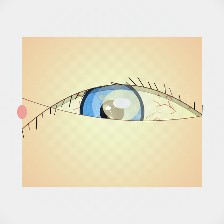corneal_ulcer: (91, 81, 152, 130)
